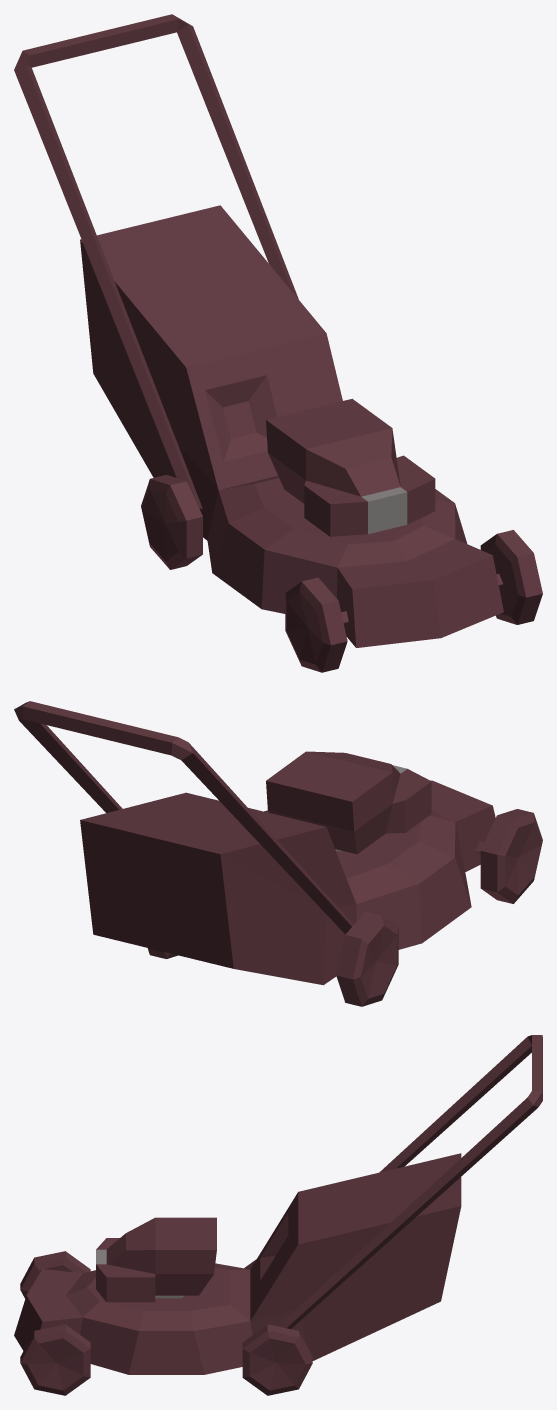
The model's file is lawn-mower.fbx.
3 views of the same model, one above another, from view 1: azimuth 30°, elevation 25°; view 2: azimuth 150°, elevation 25°; view 3: azimuth 270°, elevation 25° (orthographic). The views are drawn at different scales.
Visible parts, largest first — view 1: lawn-mower; view 2: lawn-mower; view 3: lawn-mower.
Part boxes in pixels (bbox=[...]): lawn-mower: bbox=[14, 14, 542, 672]; lawn-mower: bbox=[14, 701, 542, 1006]; lawn-mower: bbox=[14, 1035, 542, 1395].
Bounding box in the file's own units: 0.6902 × 1.15 × 1.88.
